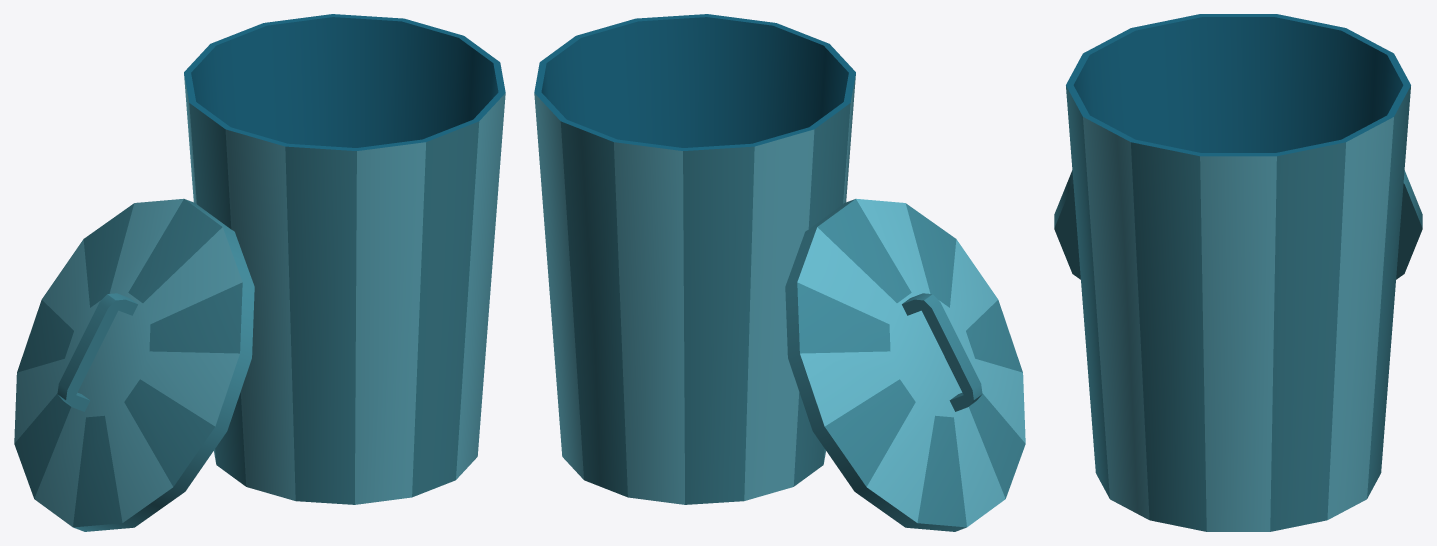
Rendered from trashbin02.fbx.
3 renders of one model, left to right at view 1: azimuth 30°, elevation 25°; view 2: azimuth 150°, elevation 25°; view 3: azimuth 270°, elevation 25°, orthographic. The views are drawn at different scales.
Visible parts, largest first — view 1: trashbin02; view 2: trashbin02; view 3: trashbin02.
Part boxes in pixels (x1,y1,x2,y2): trashbin02: (14, 14, 505, 531); trashbin02: (534, 14, 1025, 531); trashbin02: (1054, 14, 1422, 531).
Bounding box in the file's own units: 147 × 121 × 103.
